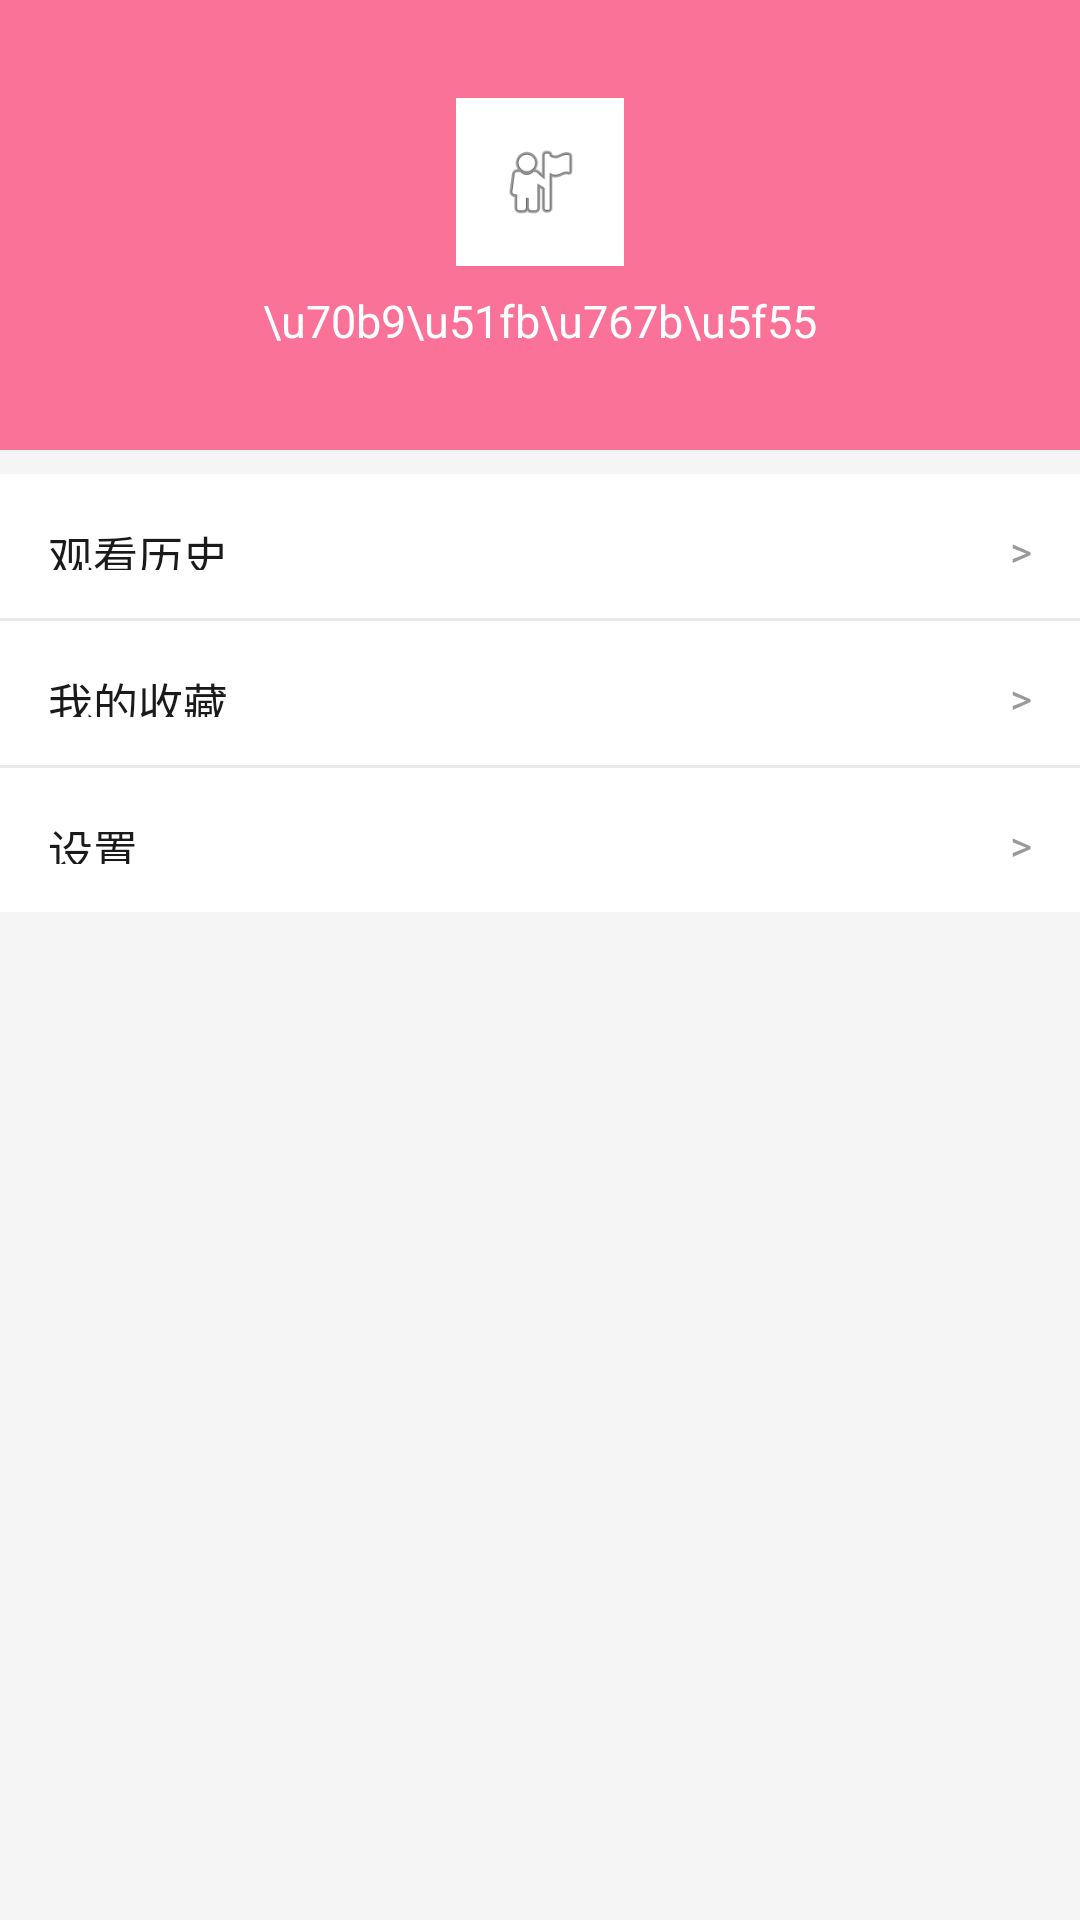

Icons on this 1080px x 1920px Android screen, each with the point to tap as (x,y):
myplaces: (540,182)
